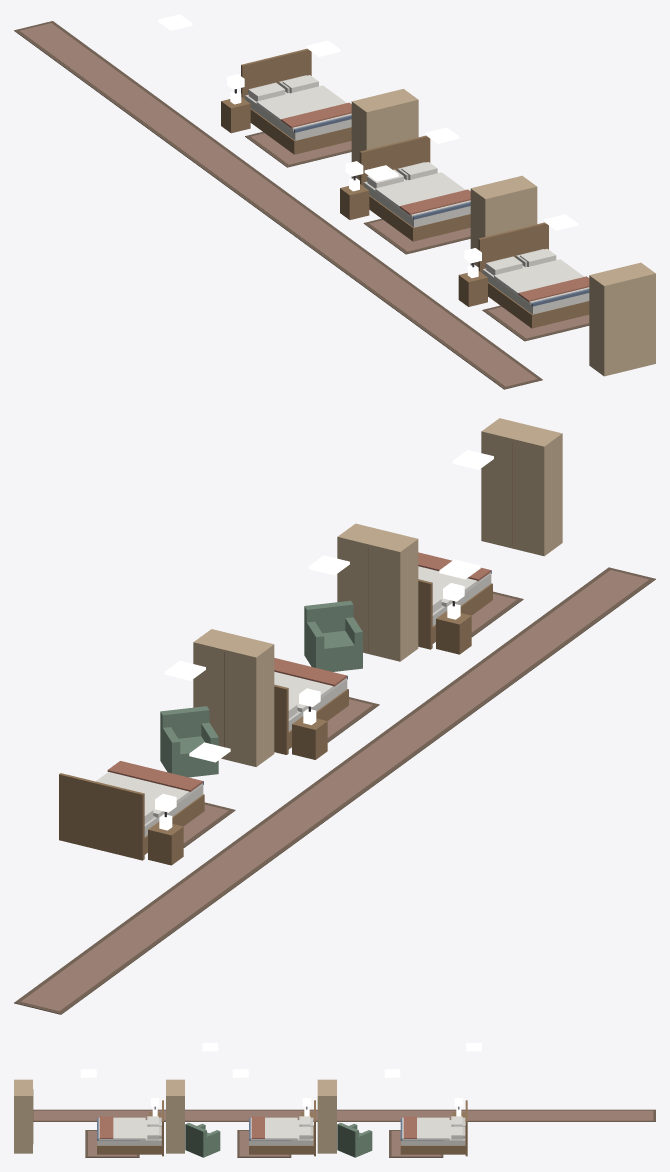
File: fine-s1.glb
3 renders of one model, top to bottom at view 1: azimuth 30°, elevation 25°; view 2: azimuth 150°, elevation 25°; view 3: azimuth 270°, elevation 25°, orthographic. The views are drawn at different scales.
Parts seen in each view (by area): view 1: soft-s1, dresser.002, bed-frame.000, bed-frame.002, bed-frame.001, dresser.000, dresser.001, nightstand.002, nightstand.000, nightstand.001; view 2: soft-s1, dresser.002, dresser.001, dresser.000, bed-frame.000, lounge-chair.001, lounge-chair.000, bed-frame.002, bed-frame.001, nightstand.001, nightstand.002, nightstand.000; view 3: soft-s1, dresser.000, dresser.002, dresser.001, bed-frame.000, bed-frame.001, bed-frame.002, lounge-chair.000, lounge-chair.001.
Part boxes in pixels (x1,y1,x2,y2): soft-s1: (14,21,589,389); dresser.002: (589,262,655,376); bed-frame.000: (241,48,351,154); bed-frame.002: (478,222,589,328); bed-frame.001: (359,135,470,241); dresser.000: (351,89,418,179); dresser.001: (470,175,537,266); nightstand.002: (458,264,487,306); nightstand.000: (221,91,250,133); nightstand.001: (340,178,369,219); soft-s1: (14,552,655,1014); dresser.002: (481,418,562,556); dresser.001: (337,523,418,661); dresser.000: (193,629,274,766); bed-frame.000: (59,773,204,860); lounge-chair.001: (304,600,362,671); lounge-chair.000: (160,706,218,777); bed-frame.002: (418,570,492,649); bed-frame.001: (274,675,348,754); nightstand.001: (292,708,327,759); nightstand.002: (436,603,471,654); nightstand.000: (148,814,183,865); soft-s1: (33,1098,655,1157); dresser.000: (317,1079,336,1153); dresser.002: (14,1079,33,1153); dresser.001: (166,1079,184,1153); bed-frame.000: (400,1100,467,1156); bed-frame.001: (249,1100,315,1156); bed-frame.002: (97,1100,163,1156); lounge-chair.000: (337,1122,372,1157); lounge-chair.001: (185,1123,220,1157).
Size of the model in its own units: 3.55 by 2.41 by 20.13.
